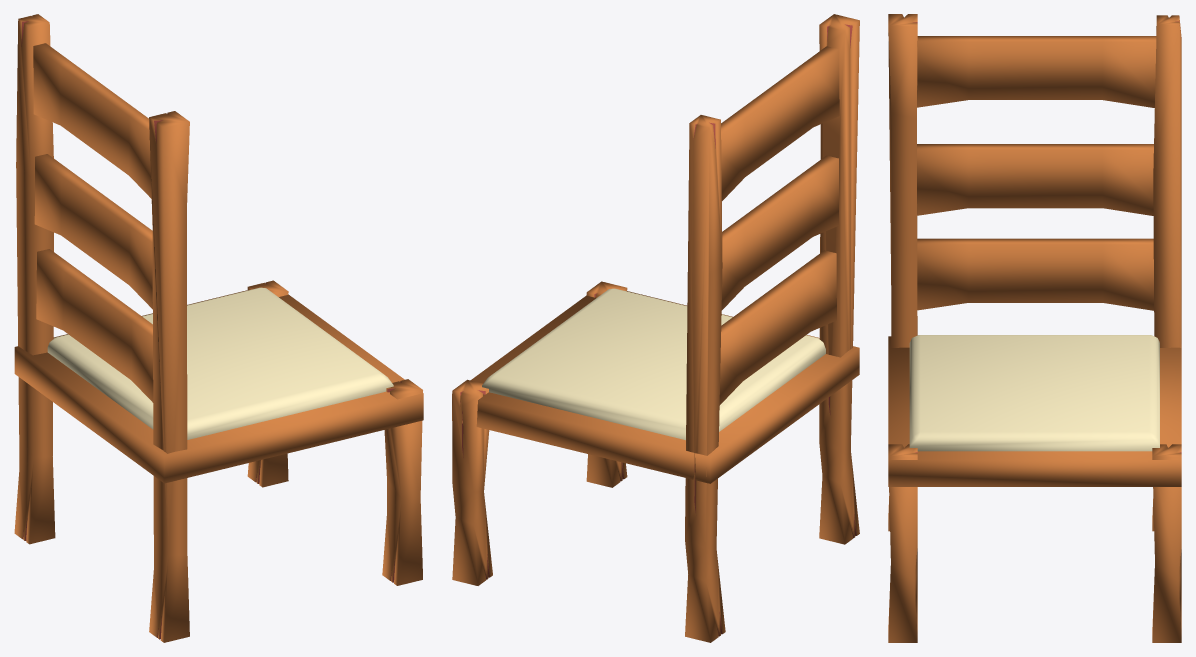
The model's file is chair.glb.
3 views of the same model, side by side, from view 1: azimuth 30°, elevation 25°; view 2: azimuth 150°, elevation 25°; view 3: azimuth 270°, elevation 25° (orthographic).
Parts seen in each view (by area): view 1: Cube.016, Cube.011, Cube, Cube.010, Cube.014, Cube.015, Cube.013, Cube.012, Cube.009; view 2: Cube.016, Cube.010, Cube, Cube.011, Cube.015, Cube.014, Cube.013, Cube.009, Cube.012; view 3: Cube.016, Cube.013, Cube.014, Cube.015, Cube, Cube.011, Cube.010, Cube.012, Cube.009.
Boxes of the visible parts, bbox=[...] form: Cube.016: bbox=[47, 287, 393, 439]; Cube.011: bbox=[149, 111, 189, 642]; Cube: bbox=[14, 290, 423, 483]; Cube.010: bbox=[14, 14, 55, 544]; Cube.014: bbox=[34, 154, 152, 309]; Cube.015: bbox=[33, 43, 151, 198]; Cube.013: bbox=[36, 249, 153, 402]; Cube.012: bbox=[382, 379, 422, 585]; Cube.009: bbox=[247, 280, 288, 487]; Cube.016: bbox=[482, 288, 825, 440]; Cube.010: bbox=[685, 115, 725, 642]; Cube: bbox=[452, 291, 859, 483]; Cube.011: bbox=[819, 14, 859, 544]; Cube.015: bbox=[721, 46, 839, 200]; Cube.014: bbox=[721, 155, 838, 310]; Cube.013: bbox=[719, 250, 836, 405]; Cube.009: bbox=[452, 379, 492, 585]; Cube.012: bbox=[586, 281, 627, 487]; Cube.016: bbox=[909, 335, 1159, 451]; Cube.013: bbox=[917, 238, 1153, 310]; Cube.014: bbox=[917, 144, 1153, 215]; Cube.015: bbox=[917, 36, 1156, 107]; Cube: bbox=[888, 336, 1181, 486]; Cube.011: bbox=[888, 14, 917, 531]; Cube.010: bbox=[1152, 15, 1181, 531]; Cube.012: bbox=[888, 444, 917, 642]; Cube.009: bbox=[1152, 444, 1181, 642].
Size of the model in its own units: 1 by 1.9 by 1.
Materials: 1 (1 with a texture image).
